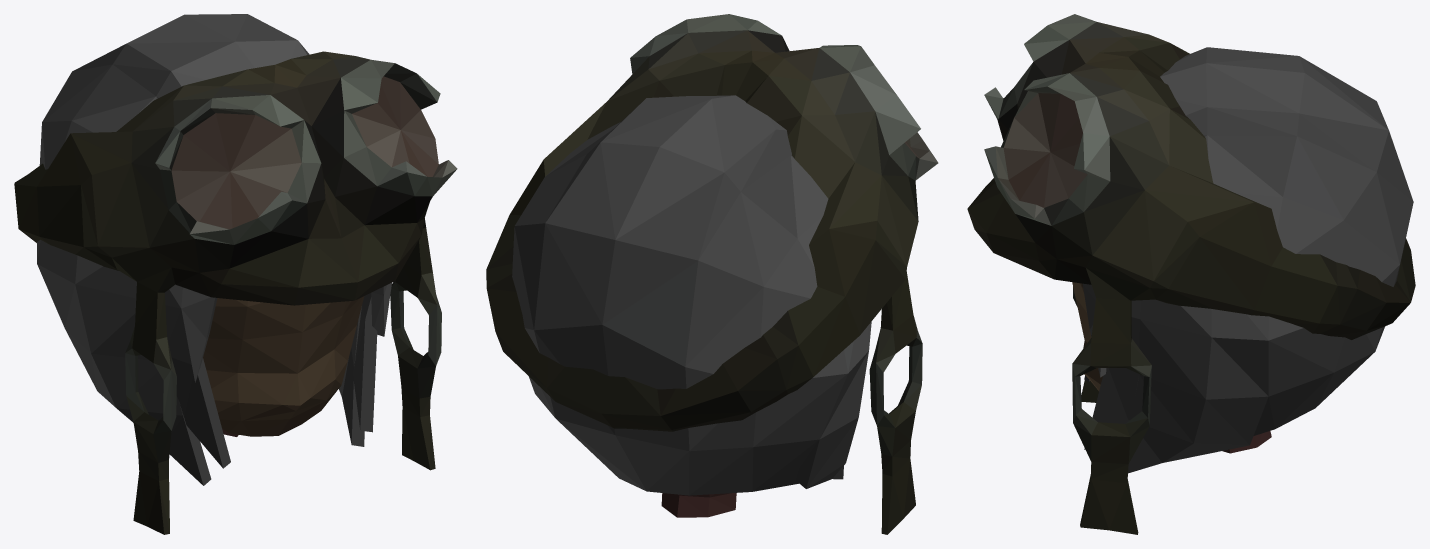
File: helm_darkskin_bob_gray_goggles.fbx
The picture shows the model from 3 angles, left to right: view 1: azimuth 30°, elevation 25°; view 2: azimuth 150°, elevation 25°; view 3: azimuth 270°, elevation 25°; orthographic projection. The views are drawn at different scales.
Parts seen in each view (by area): view 1: helm_darkskin_bob_black_goggles; view 2: helm_darkskin_bob_black_goggles; view 3: helm_darkskin_bob_black_goggles.
Boxes of the visible parts, x1,y1,x2,y2 form: helm_darkskin_bob_black_goggles: (14, 14, 457, 534); helm_darkskin_bob_black_goggles: (486, 14, 938, 534); helm_darkskin_bob_black_goggles: (967, 14, 1415, 534).
Bounding box in the file's own units: 1.22 × 1.45 × 1.42.
